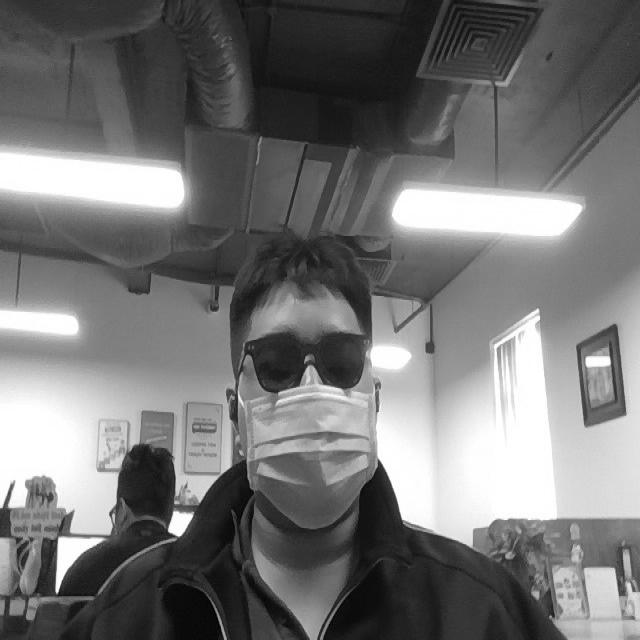fake: (245, 388, 377, 532), (237, 327, 373, 391)
